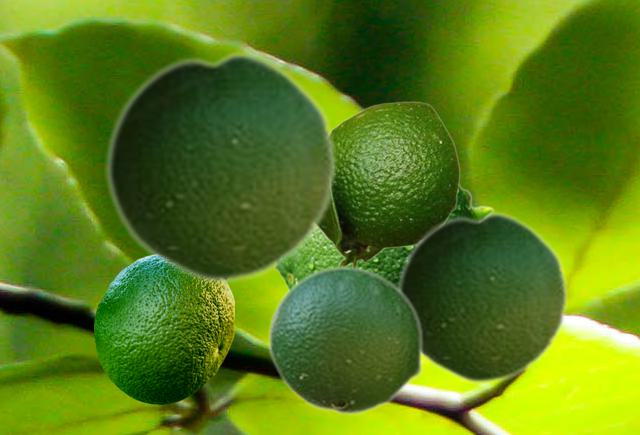dalandan: (104, 48, 337, 285), (395, 209, 568, 385), (267, 265, 423, 415), (276, 182, 493, 288), (320, 101, 459, 265), (94, 256, 233, 403)
